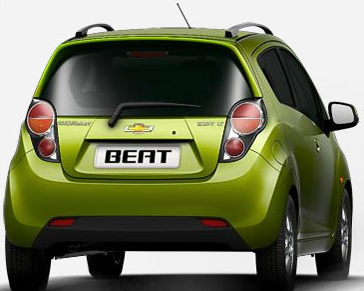car: (1, 21, 360, 291)
